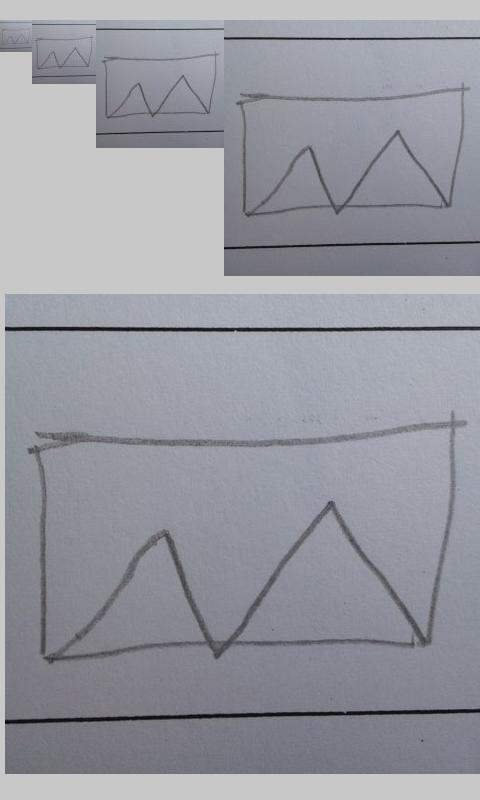image_view: (30, 423, 459, 667), (236, 86, 468, 217), (103, 52, 217, 119), (35, 36, 94, 70), (1, 28, 30, 45)
